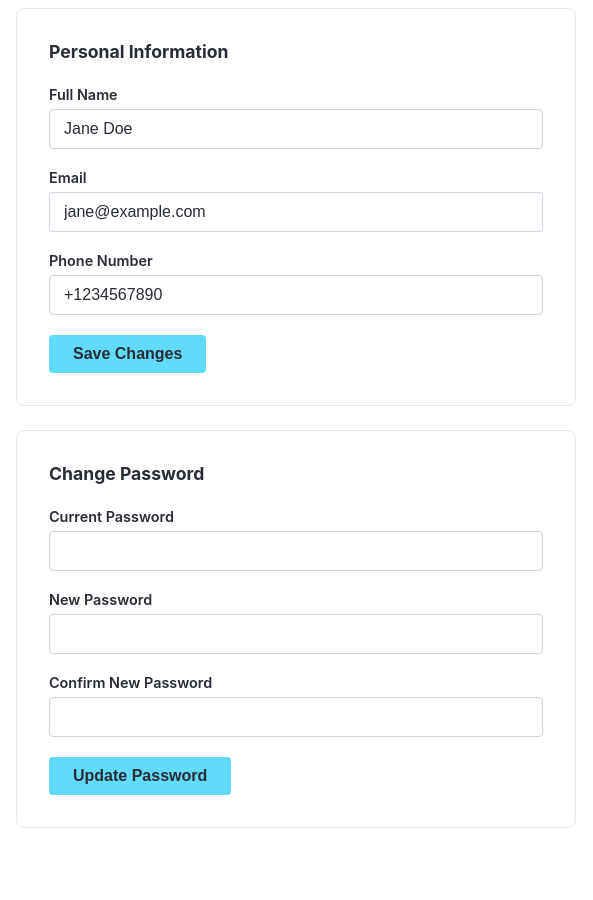
Test case: ProfilePage › password change form › shows required error when current password is empty on submit
The width and height of the screenshot is (593, 900).
(page scrolled)
Expected: the field labelled "Full Name" is shown, [49, 109, 543, 149]
Click the button "Update Password" at (140, 776), box [49, 757, 231, 795]
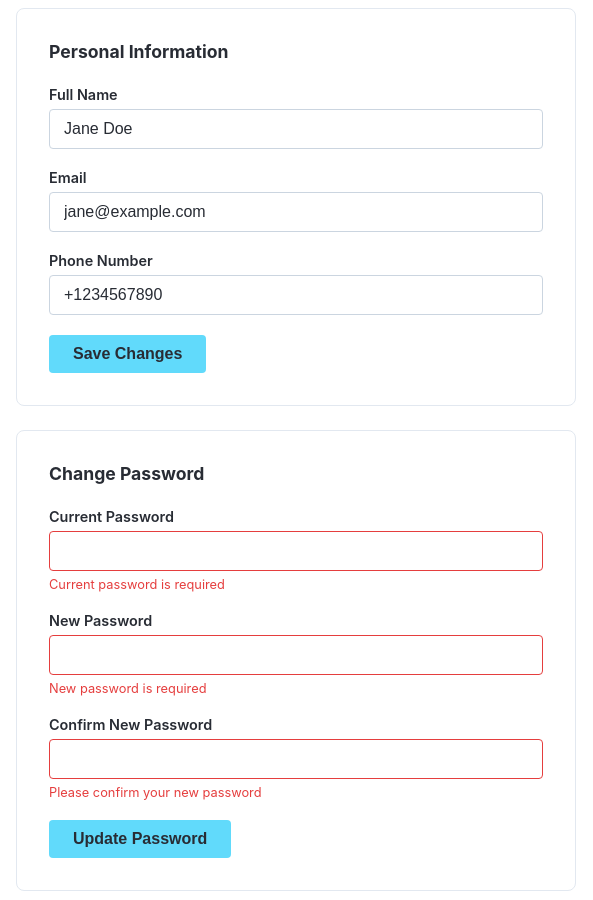
Now the text "Current password is required" is shown, box [49, 577, 225, 592]
